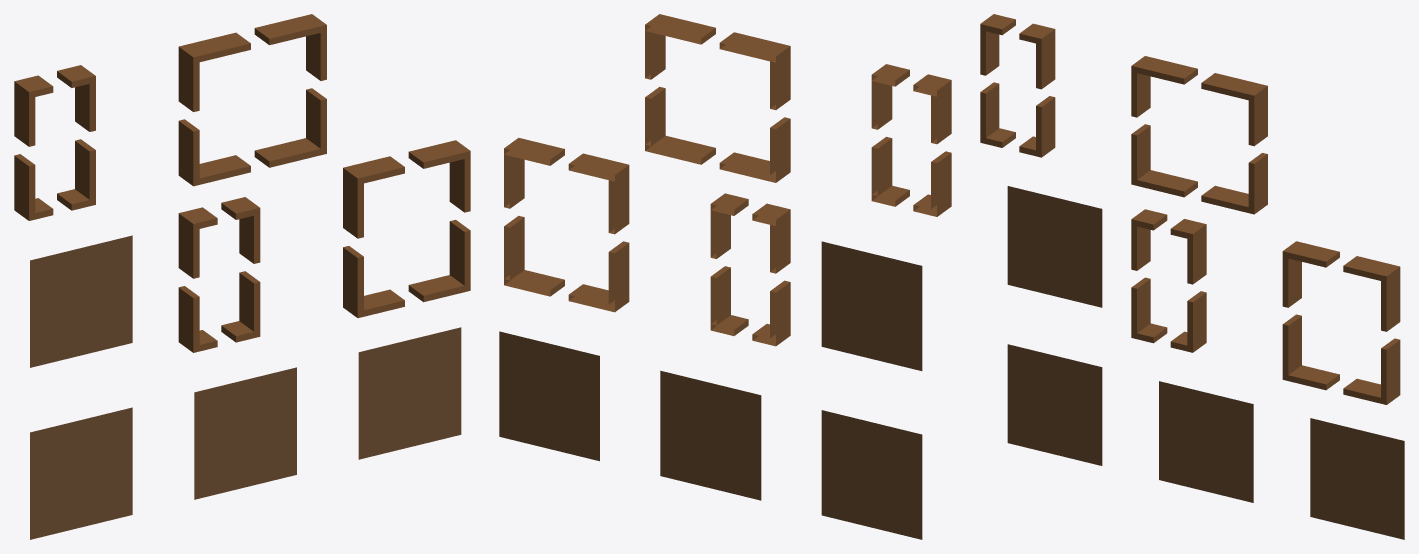
File: construction_0.glb
The picture shows the model from 3 angles, left to right: view 1: azimuth 30°, elevation 25°; view 2: azimuth 150°, elevation 25°; view 3: azimuth 330°, elevation 25°; orthographic projection. The views are drawn at different scales.
Parts seen in each view (by area): view 1: t20_g14, t00_g15, t01_g15, t10_g14, t12_g11, t21_g13, t11_g12, t02_g12; view 2: t01_g15, t10_g14, t00_g15, t20_g14, t12_g11, t21_g13, t02_g12, t11_g12; view 3: t01_g15, t00_g15, t20_g14, t10_g14, t12_g11, t21_g13, t11_g12, t02_g12.
Part boxes in pixels (<box>): t20_g14: <box>358,327,461,459</box>; t00_g15: <box>30,407,132,539</box>; t01_g15: <box>30,235,132,367</box>; t10_g14: <box>194,367,296,499</box>; t12_g11: <box>178,14,326,186</box>; t21_g13: <box>343,140,470,317</box>; t11_g12: <box>178,197,260,352</box>; t02_g12: <box>14,65,95,220</box>; t01_g15: <box>821,241,922,370</box>; t10_g14: <box>660,370,761,500</box>; t00_g15: <box>821,410,922,539</box>; t20_g14: <box>499,331,599,461</box>; t12_g11: <box>645,14,790,182</box>; t21_g13: <box>504,137,629,312</box>; t02_g12: <box>871,64,951,216</box>; t11_g12: <box>710,193,790,346</box>; t01_g15: <box>1007,186,1102,307</box>; t00_g15: <box>1007,344,1102,465</box>; t20_g14: <box>1310,418,1404,539</box>; t10_g14: <box>1159,381,1253,502</box>; t12_g11: <box>1131,56,1267,214</box>; t21_g13: <box>1282,241,1400,404</box>; t11_g12: <box>1131,209,1206,352</box>; t02_g12: <box>980,14,1055,157</box>.
Size of the model in its own units: 43.5 by 43 by 2.5.
